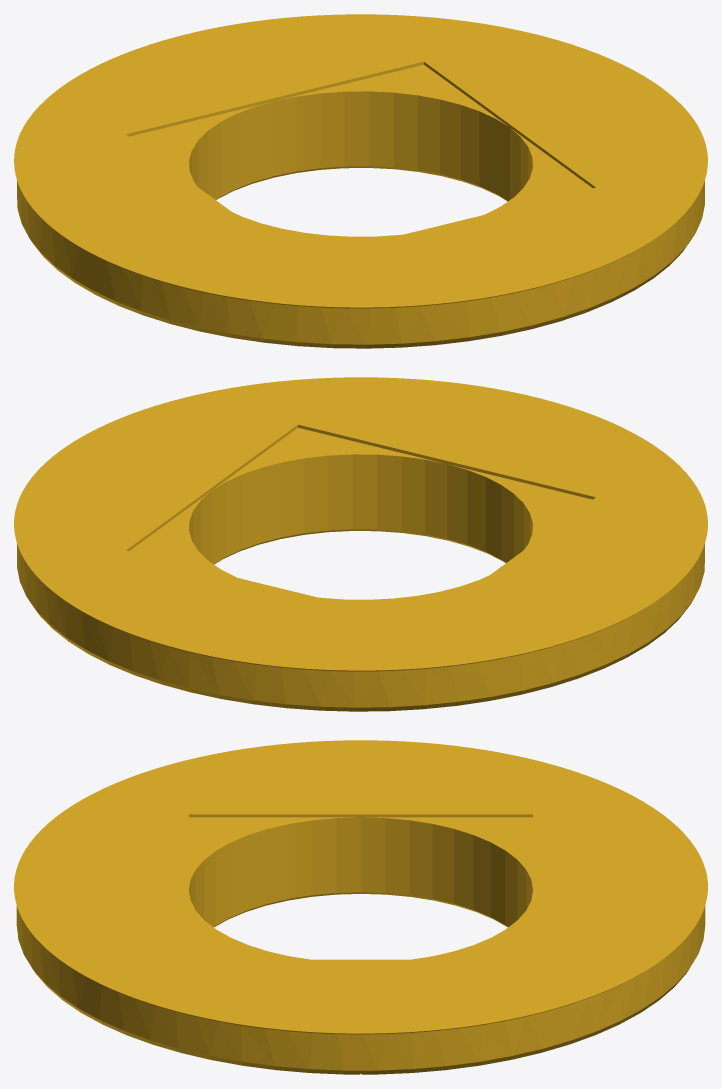
3 renders of one model, top to bottom at view 1: azimuth 30°, elevation 25°; view 2: azimuth 150°, elevation 25°; view 3: azimuth 270°, elevation 25°, orthographic.
Parts seen in each view (by area): view 1: link_t; view 2: link_t; view 3: link_t.
Boxes of the visible parts, bbox=[...] form: link_t: bbox=[14, 14, 707, 348]; link_t: bbox=[14, 377, 707, 711]; link_t: bbox=[14, 740, 707, 1074].
Bounding box in the file's own units: 0.1008 × 0.1008 × 0.013.
Materials: 1 (1 with a texture image).
